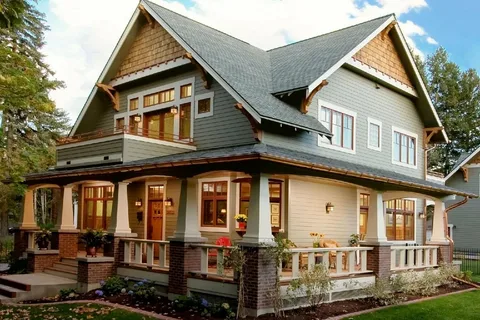private_hause: (75, 28, 443, 257)
